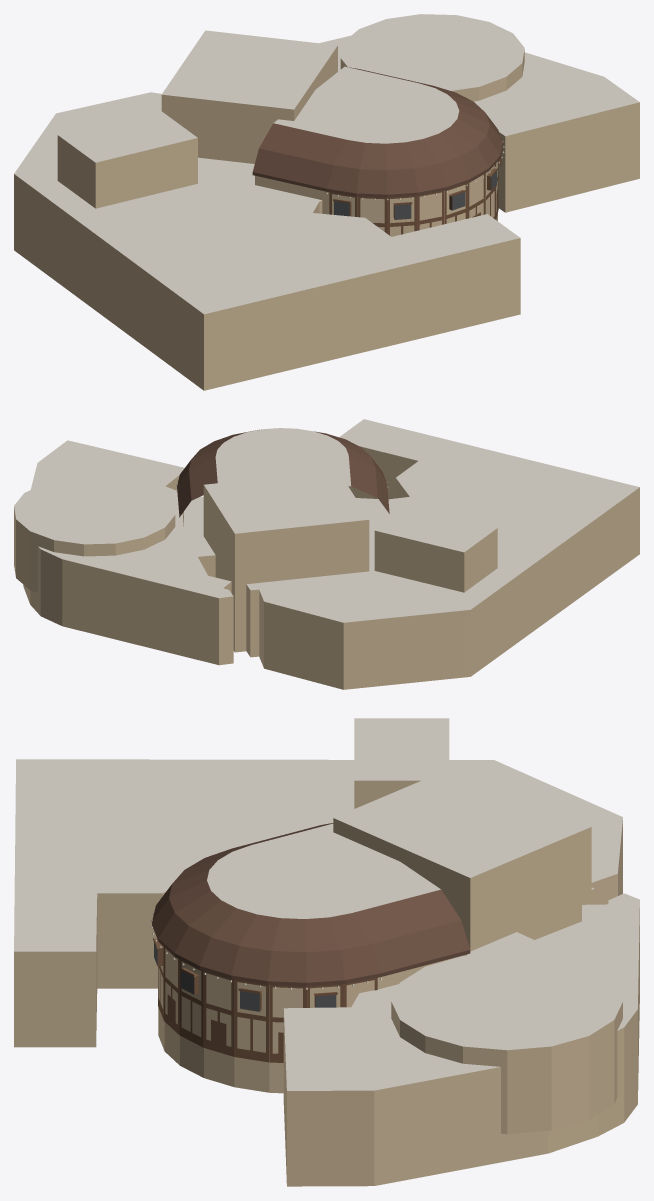
File: sd-old-globe-theatre.glb
3 renders of one model, top to bottom at view 1: azimuth 30°, elevation 25°; view 2: azimuth 150°, elevation 25°; view 3: azimuth 270°, elevation 25°, orthographic. The views are drawn at different scales.
Parts seen in each view (by area): view 1: The Old Globe; view 2: The Old Globe; view 3: The Old Globe.
Part boxes in pixels (bbox=[...]): The Old Globe: bbox=[14, 14, 639, 390]; The Old Globe: bbox=[14, 419, 639, 689]; The Old Globe: bbox=[14, 718, 639, 1186].
Size of the model in its own units: 74.5 by 17.7 by 59.4.
